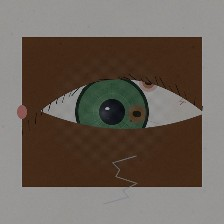foreign_body_visible: (115, 96, 159, 132)
